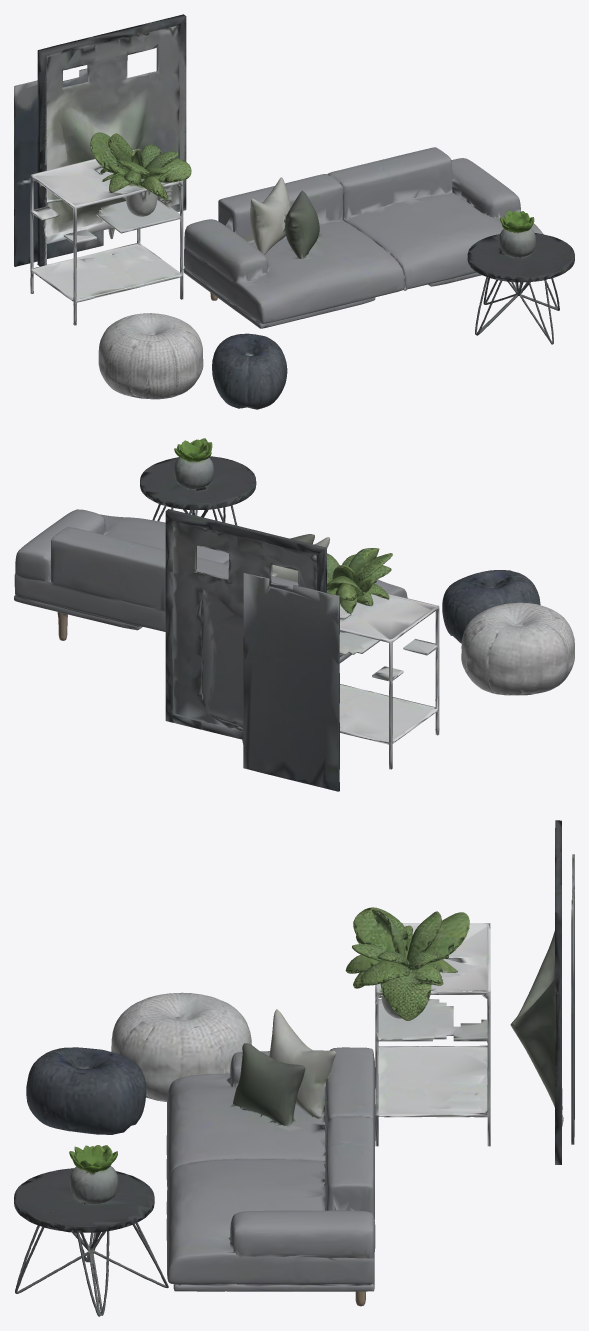
File: modern-living-room.glb
3 renders of one model, top to bottom at view 1: azimuth 30°, elevation 25°; view 2: azimuth 150°, elevation 25°; view 3: azimuth 270°, elevation 25°, orthographic. The views are drawn at different scales.
Visible parts, largest first — view 1: tripo_node_682fd39a-07eb-4bea-bd9e-d66d89f1b538; view 2: tripo_node_682fd39a-07eb-4bea-bd9e-d66d89f1b538; view 3: tripo_node_682fd39a-07eb-4bea-bd9e-d66d89f1b538.
Boxes of the visible parts, x1=… form: tripo_node_682fd39a-07eb-4bea-bd9e-d66d89f1b538: x1=14, y1=14, x2=574, y2=409; tripo_node_682fd39a-07eb-4bea-bd9e-d66d89f1b538: x1=14, y1=438, x2=574, y2=791; tripo_node_682fd39a-07eb-4bea-bd9e-d66d89f1b538: x1=14, y1=820, x2=574, y2=1316.
Bounding box in the file's own units: 0.9796 × 0.4647 × 0.8359.
Materials: 1 (1 with a texture image).
